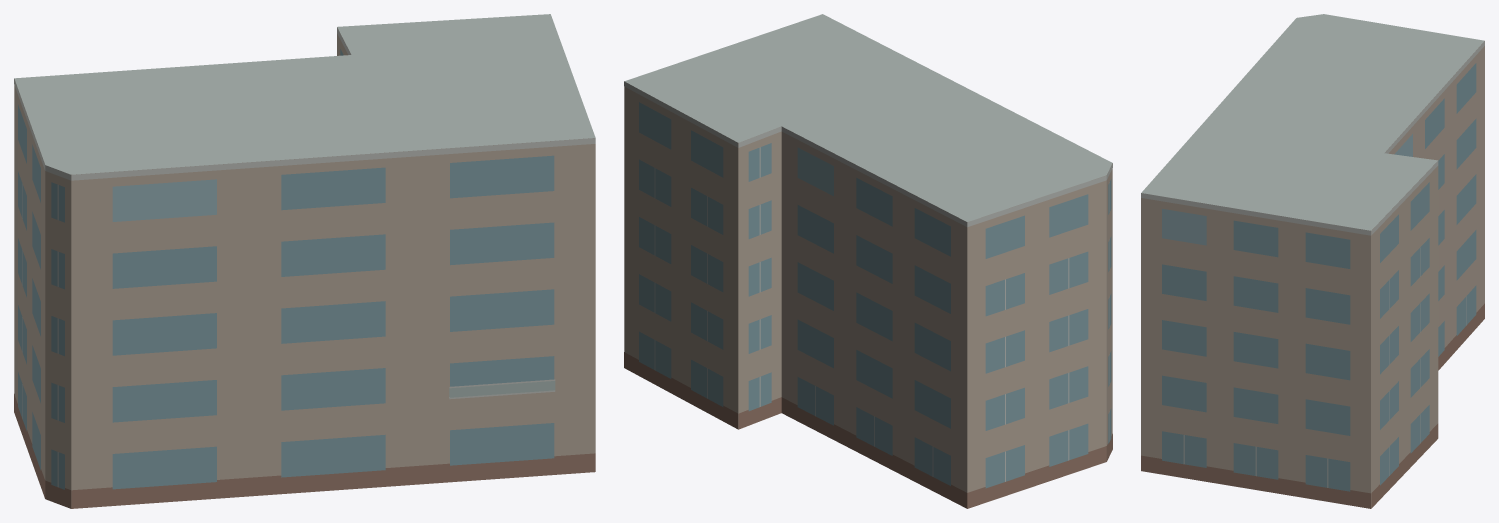
File: survey-upis-32892220.glb
3 renders of one model, left to right at view 1: azimuth 30°, elevation 25°; view 2: azimuth 150°, elevation 25°; view 3: azimuth 270°, elevation 25°, orthographic. The views are drawn at different scales.
Parts seen in each view (by area): view 1: survey-upis-32892220.tmp; view 2: survey-upis-32892220.tmp; view 3: survey-upis-32892220.tmp.
Boxes of the visible parts, x1,y1,x2,y2 form: survey-upis-32892220.tmp: (14,14,595,508); survey-upis-32892220.tmp: (624,14,1112,508); survey-upis-32892220.tmp: (1141,14,1484,508).
Size of the model in its own units: 23.09 by 13.8 by 15.47.
